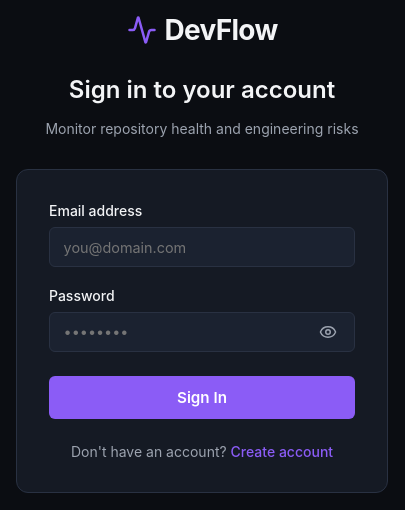
Frontend Authentication UI & Validation (SPEC Section 11 & 12) › Login Page › toggles password visibility
The image size is (405, 510).
Click the button named "Show password" at point(328, 332), box [313,322,343,342]
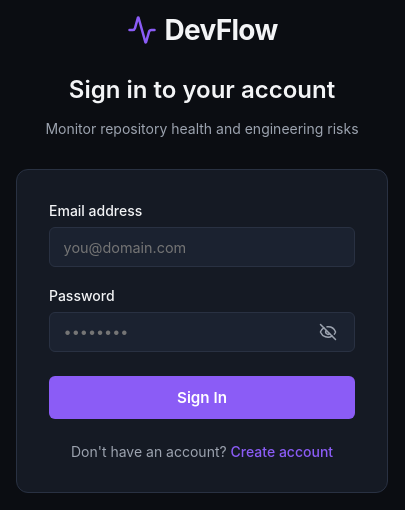
Expected: the field labelled "Password" shows its text, [49,312,355,352]
Click the button named "Show password" at point(328, 332), box [313,322,343,342]
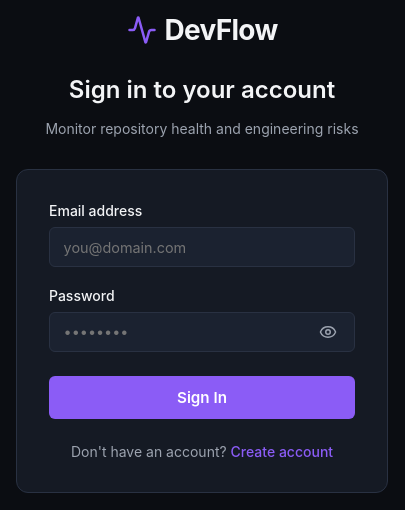
Expected: the password field labelled "Password" hides its text, [49,312,355,352]
